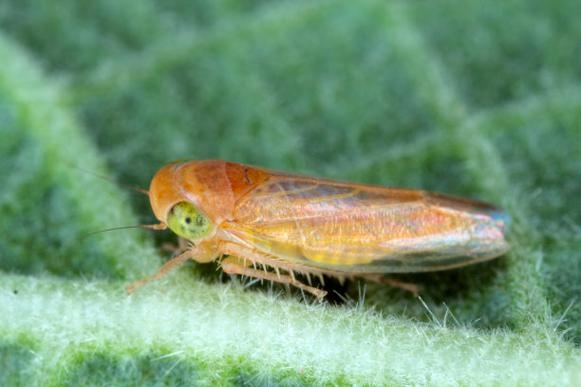Cicadellidae: (127, 158, 511, 297)
